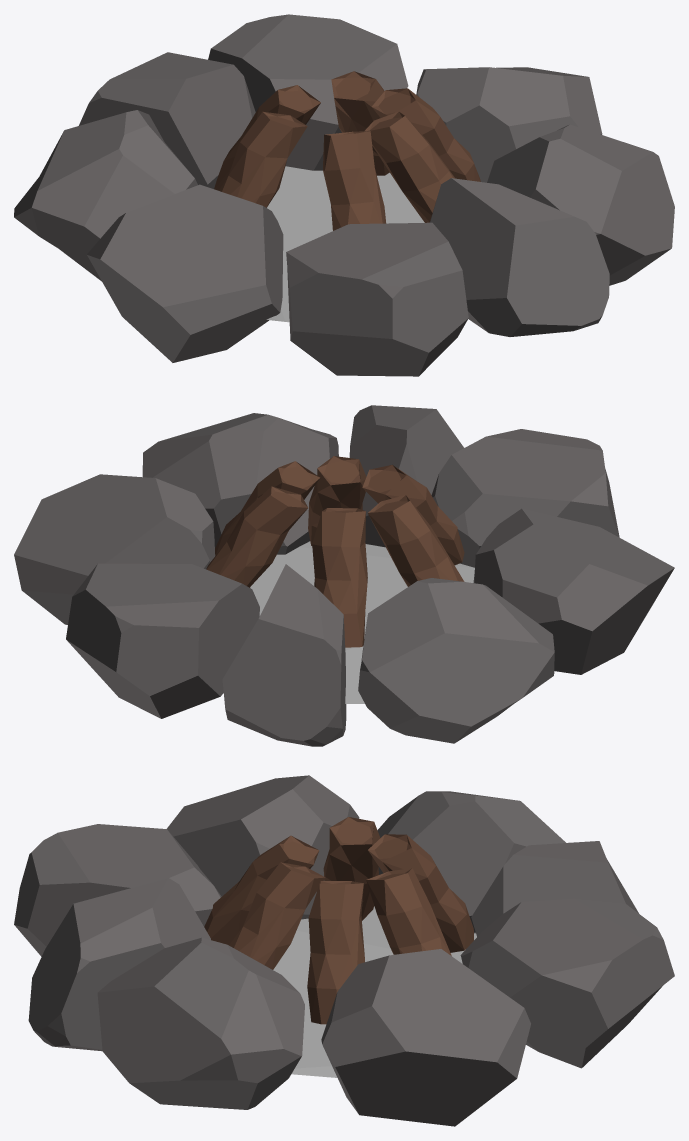
3 renders of one model, top to bottom at view 1: azimuth 30°, elevation 25°; view 2: azimuth 150°, elevation 25°; view 3: azimuth 270°, elevation 25°, orthographic. The views are drawn at different scales.
Visible parts, largest first — view 1: camp_fire; view 2: camp_fire; view 3: camp_fire.
Boxes of the visible parts, box(x1,y1,x2,y2) form: camp_fire: box(14, 14, 674, 376); camp_fire: box(14, 405, 674, 746); camp_fire: box(14, 775, 674, 1126).
Bounding box in the file's own units: 2.84 × 0.7886 × 2.91.
Materials: 1 (1 with a texture image).
